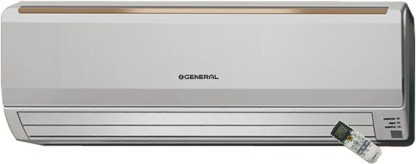ac: (1, 2, 416, 152)
